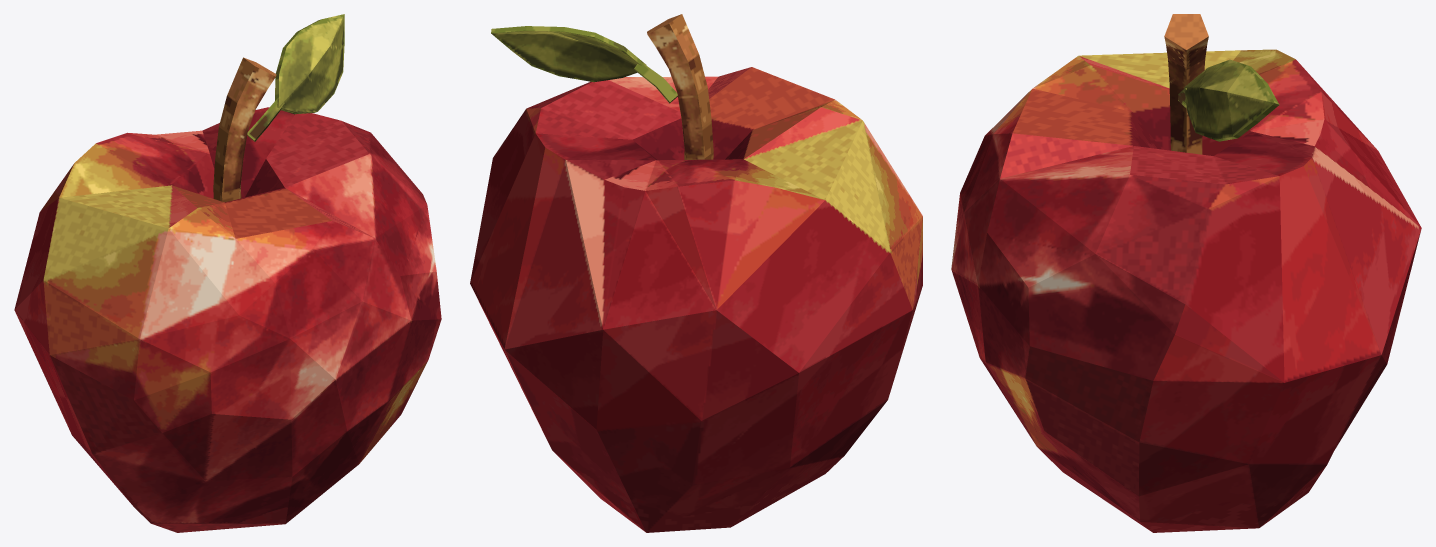
File: CI05_DiamondApple.fbx
3 renders of one model, left to right at view 1: azimuth 30°, elevation 25°; view 2: azimuth 150°, elevation 25°; view 3: azimuth 270°, elevation 25°, orthographic. The views are drawn at different scales.
Visible parts, largest first — view 1: CI05_DiamondApple; view 2: CI05_DiamondApple; view 3: CI05_DiamondApple.
Part boxes in pixels (left/top/right/bottom): CI05_DiamondApple: left=14, top=14, right=441, bottom=532; CI05_DiamondApple: left=470, top=14, right=922, bottom=532; CI05_DiamondApple: left=951, top=14, right=1421, bottom=532.
Size of the model in its own units: 0.1841 by 0.2035 by 0.1727.
1 material, 1 textured.
